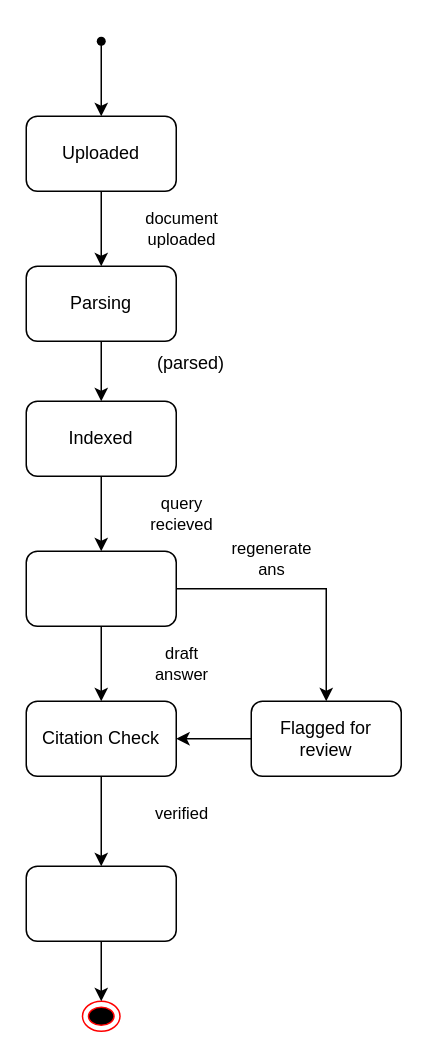
The diagram is 428 pixels wide and 1058 high, and some of its shapes have lost their labels. The box of each missing label's shape, as (x1, y1, x2, y2) in pixels:
Answer Generated: (25, 550, 176, 626)
Delivered to Lawyer: (25, 865, 176, 941)
